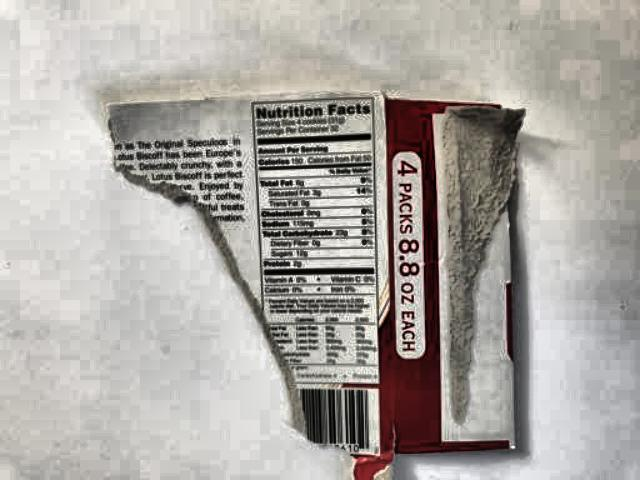Paper: (95, 71, 531, 480)
